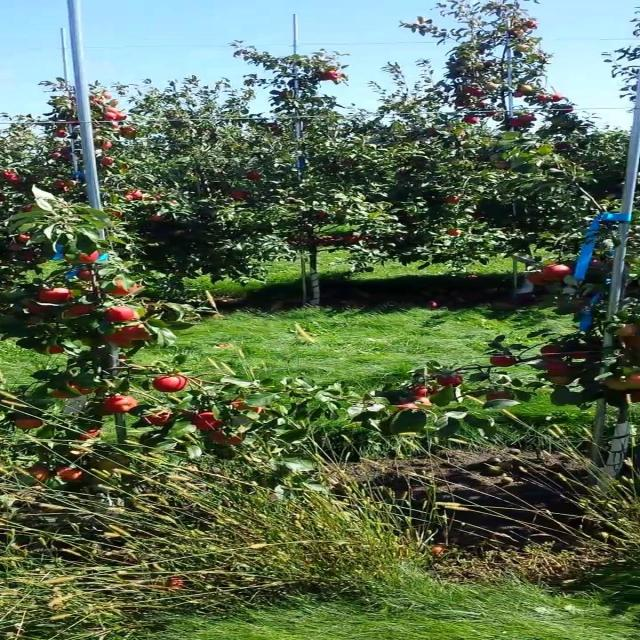apple: (191, 412, 226, 432), (156, 376, 190, 393), (106, 396, 140, 413), (540, 264, 574, 281), (56, 384, 92, 400), (212, 432, 244, 447), (42, 288, 71, 304), (106, 332, 135, 348), (106, 308, 135, 323), (113, 280, 140, 296), (56, 468, 85, 482), (490, 356, 519, 368), (120, 328, 149, 340), (63, 304, 92, 316), (148, 412, 171, 427), (234, 404, 263, 415), (77, 428, 101, 441), (28, 468, 52, 481), (13, 420, 43, 430), (618, 324, 639, 338), (77, 252, 101, 264), (532, 272, 551, 287), (547, 364, 571, 375), (440, 376, 462, 388), (604, 380, 626, 392), (397, 400, 420, 411), (412, 396, 434, 407), (28, 304, 52, 314), (625, 372, 639, 389), (412, 388, 441, 396), (99, 404, 116, 416), (554, 376, 574, 386), (490, 392, 514, 400), (625, 336, 639, 349), (547, 348, 562, 360), (625, 392, 638, 404), (77, 272, 94, 280), (20, 252, 37, 260), (49, 348, 64, 356), (575, 352, 590, 360), (20, 236, 34, 244), (70, 452, 85, 459), (632, 392, 639, 404)
